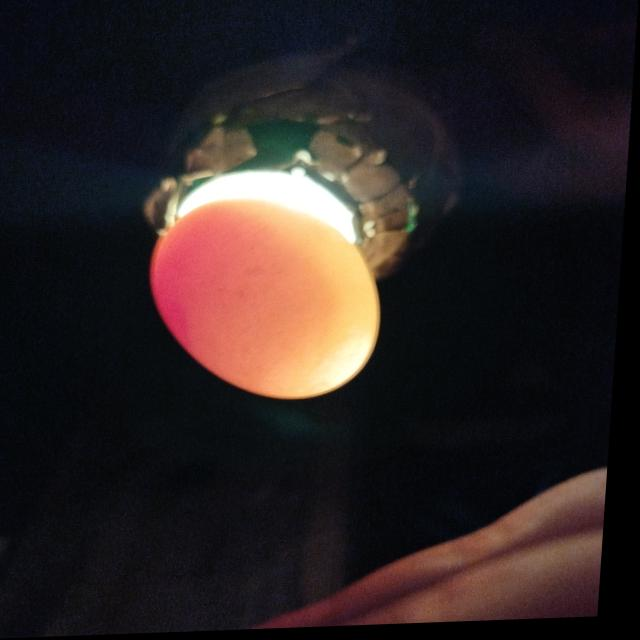Gema Quebrada: (156, 251, 200, 358)
